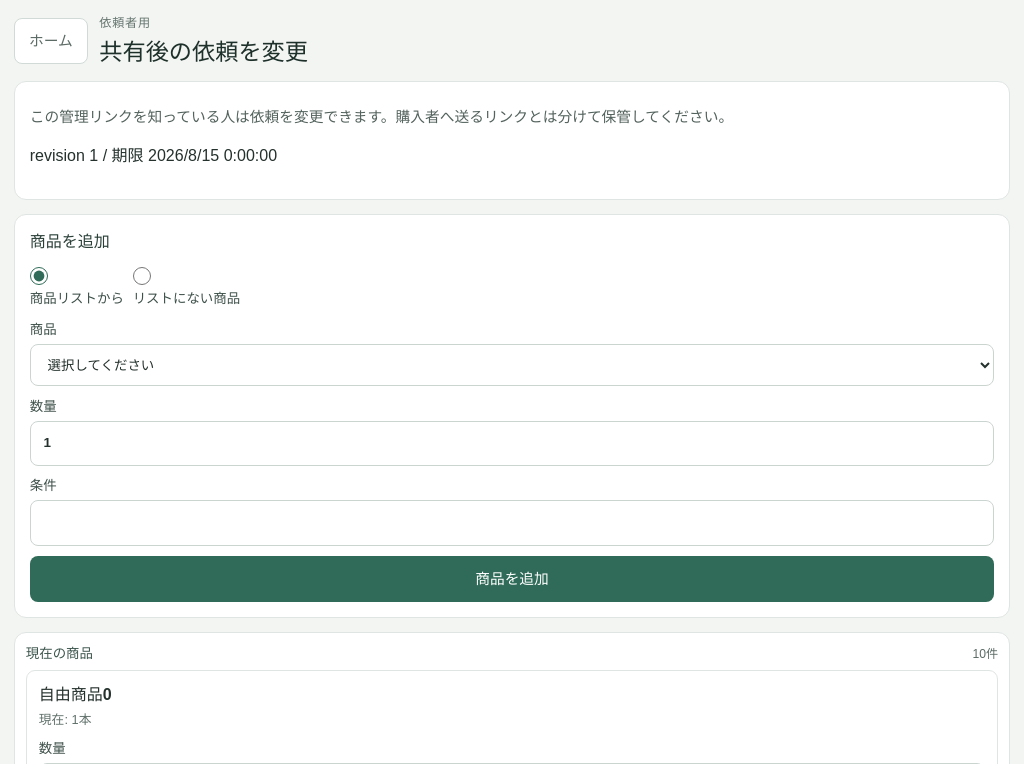
Test: LiveRequestManagePage › disables one-time item addition at the existing ten-item ceiling
Click the radio button named "live-add-mode": (142, 276) [133,267,151,285]
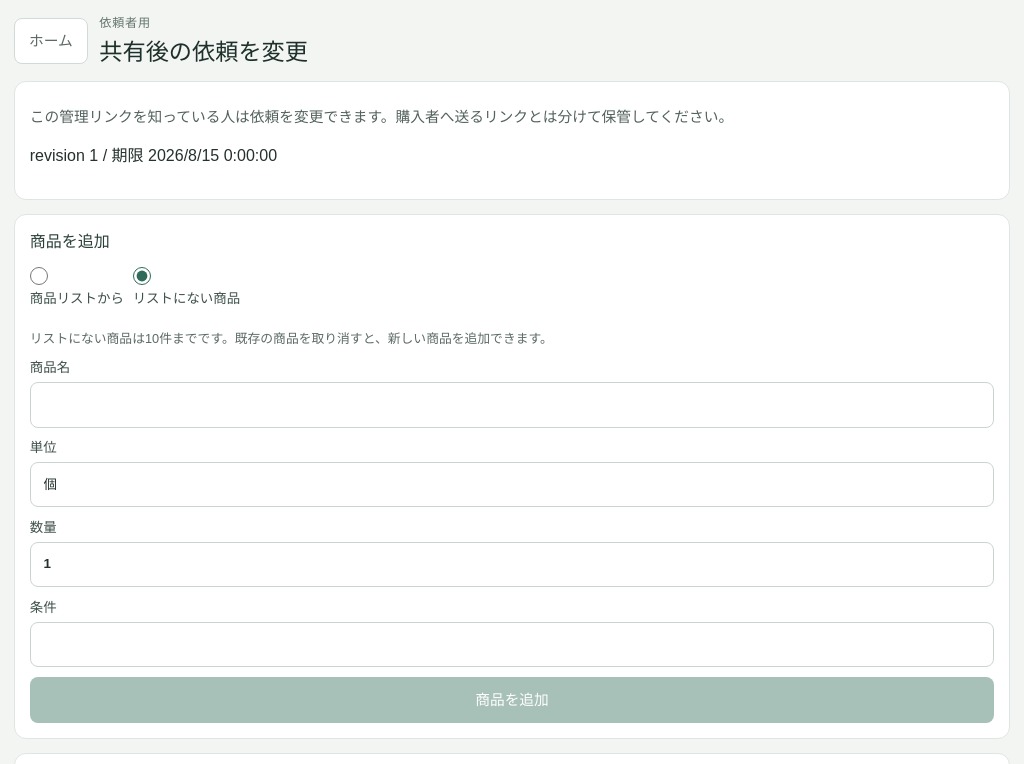
Check: the text "リストにない商品は10件までです" is shown, box [30,331,553,346]
Check: the button "商品を追加" is disabled, box [30,677,994,723]
